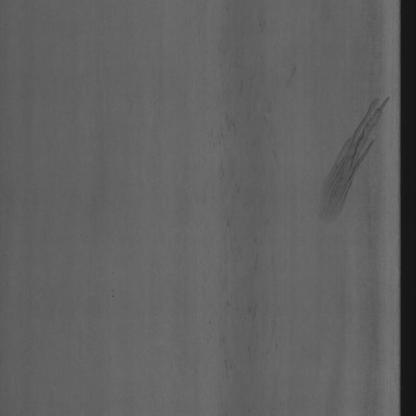silk_spot: (210, 56, 282, 383)
water_spot: (308, 79, 393, 235)
